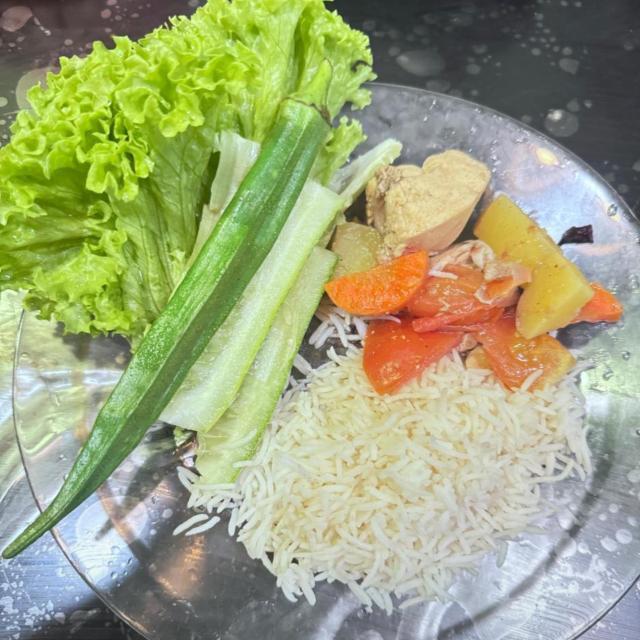Chicken: (330, 152, 490, 283)
Plate: (56, 387, 639, 639)
Rice: (167, 340, 601, 607)
Vegetables: (0, 1, 404, 564), (327, 193, 620, 392)
